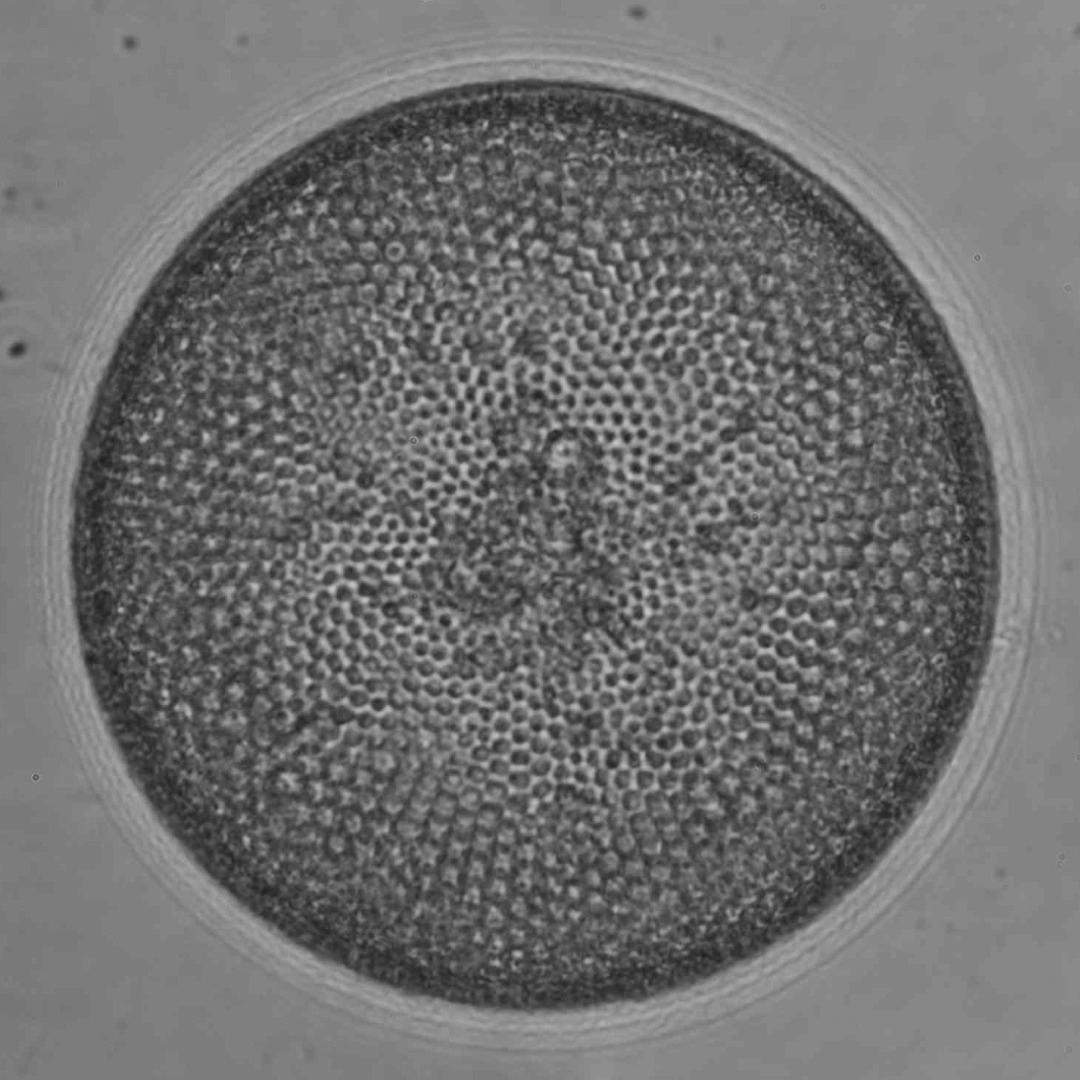coscinodiscus_oculus_iridis: (69, 76, 997, 1014)
